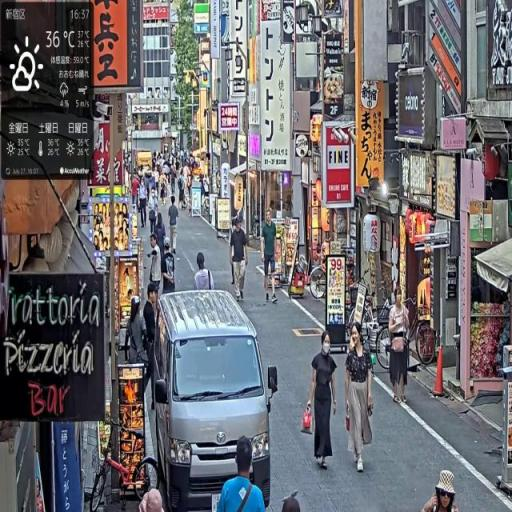person: (345, 321, 376, 475), (308, 331, 340, 472), (217, 435, 268, 512), (389, 287, 414, 409), (261, 209, 280, 304), (231, 215, 250, 304), (196, 252, 216, 293), (162, 241, 176, 296), (168, 197, 180, 255), (139, 179, 149, 229), (149, 190, 159, 239)
